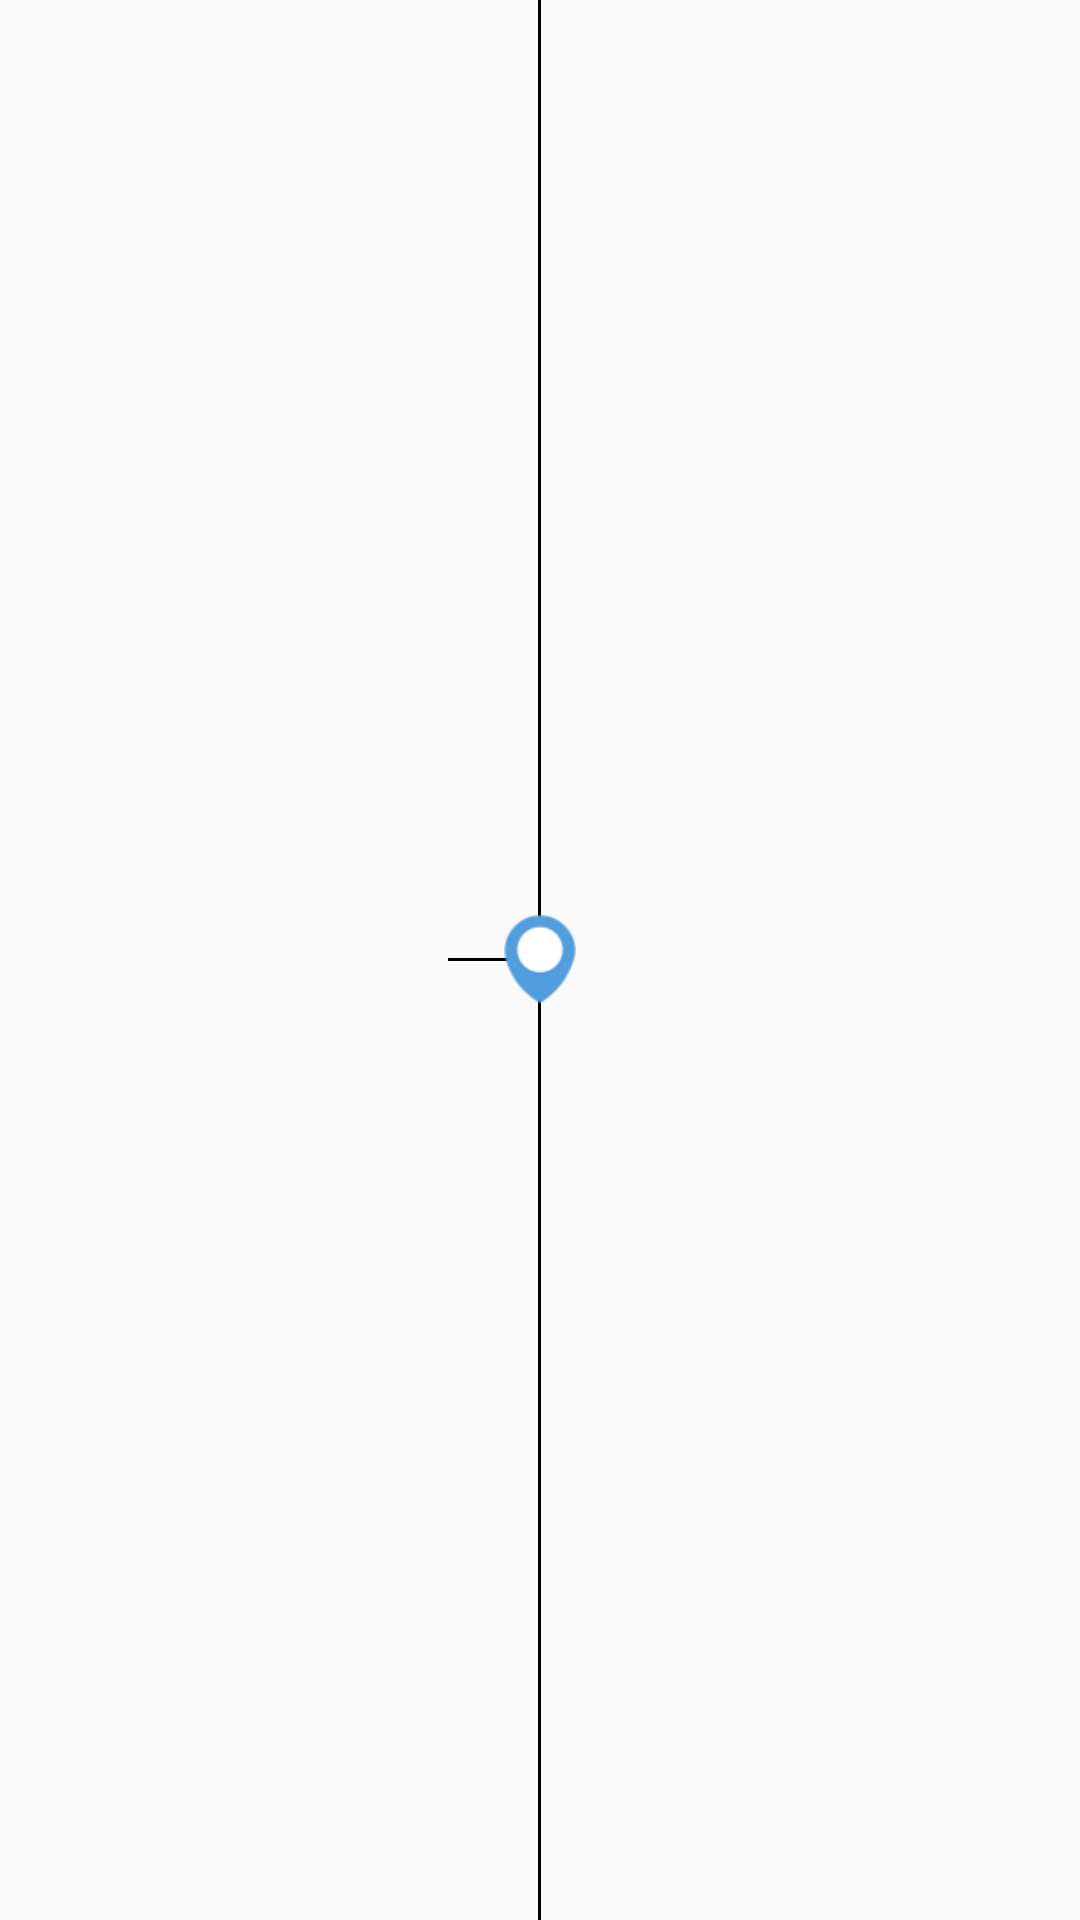

Icons on this 1080px x 1920px Android screen, each with the point to tap as (x,y):
location: (540,960)
